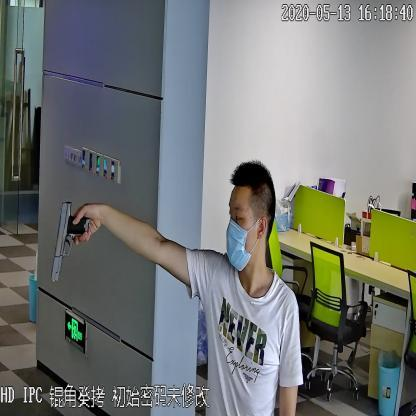gun: (36, 192, 92, 291)
